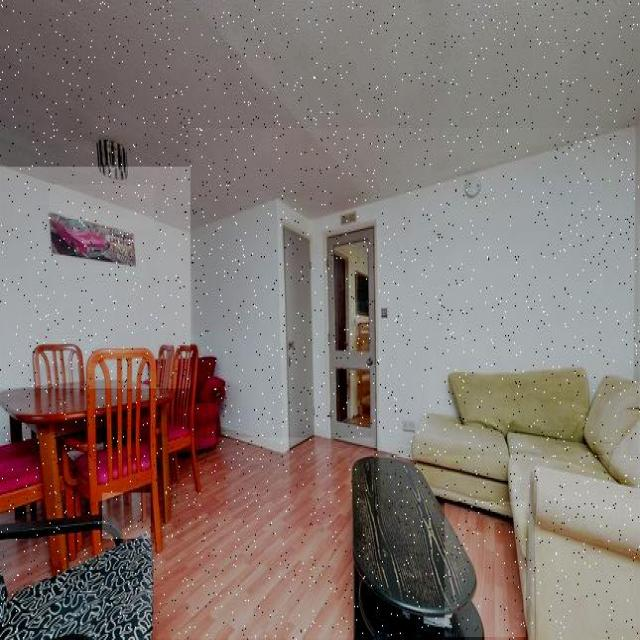Wall: (190, 129, 640, 455), (0, 1, 640, 225), (154, 438, 374, 639), (0, 167, 191, 388), (445, 502, 526, 637), (49, 187, 154, 231), (0, 540, 49, 592), (102, 493, 151, 539)
